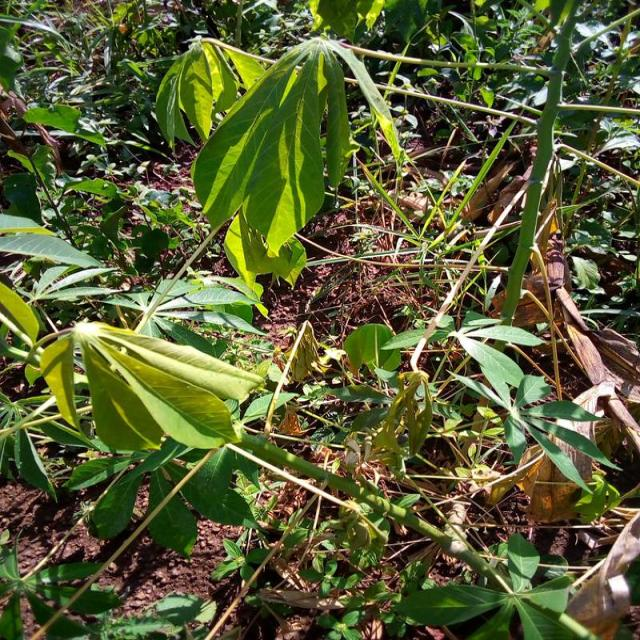cassava leaf: (181, 33, 402, 290), (40, 318, 265, 456)
